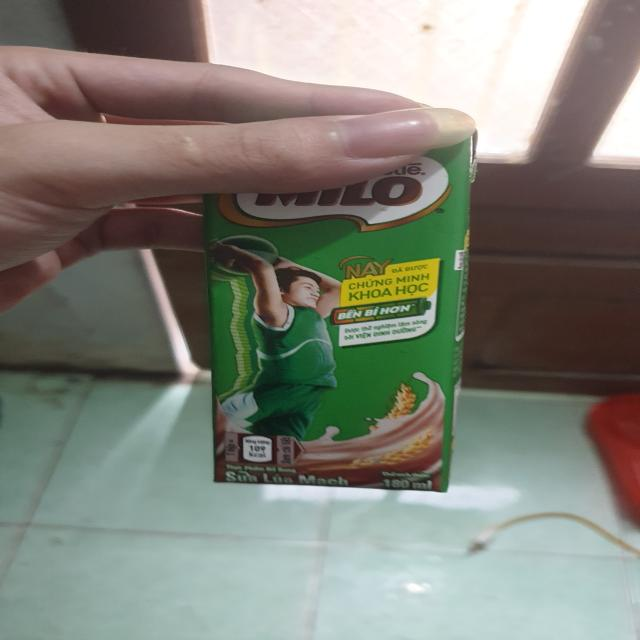Milo: (201, 123, 481, 495)
